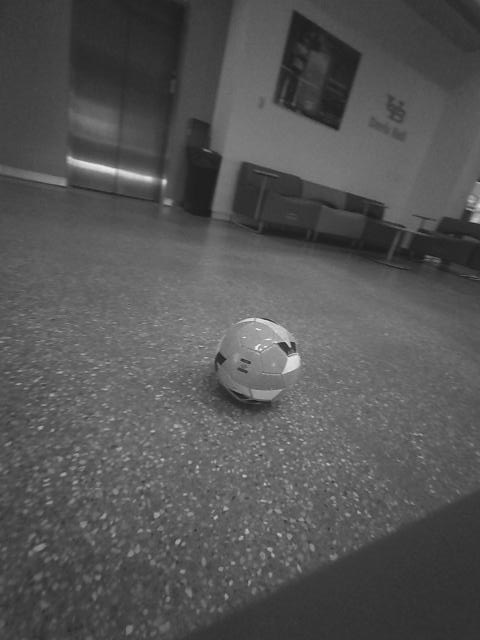ball: (145, 293, 197, 340)
